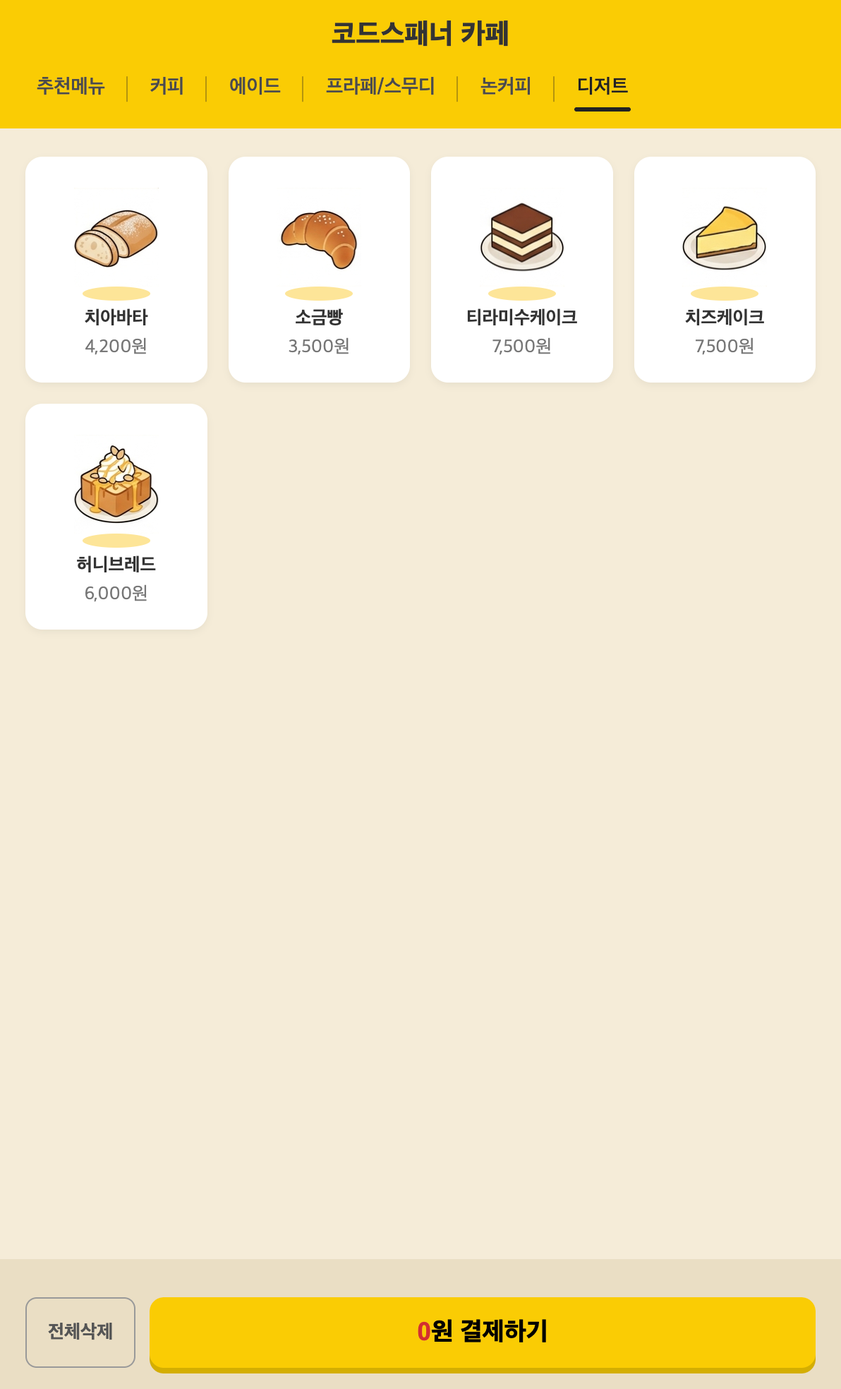action_button: (149, 1297, 811, 1374), (26, 1297, 136, 1368)
category_tab: (326, 76, 435, 97), (36, 75, 105, 97), (577, 76, 629, 96), (482, 75, 531, 96), (229, 75, 282, 94), (151, 76, 185, 96)
menu_back: (25, 402, 207, 629), (634, 156, 816, 383), (431, 156, 613, 383), (229, 156, 411, 383), (26, 156, 207, 383)
menu_name: (466, 307, 578, 327), (683, 308, 766, 326), (75, 555, 156, 573), (83, 308, 150, 326), (294, 307, 345, 328)
menu_price: (84, 583, 148, 602), (85, 337, 148, 355), (692, 337, 755, 355), (489, 337, 552, 355), (287, 337, 350, 355)
